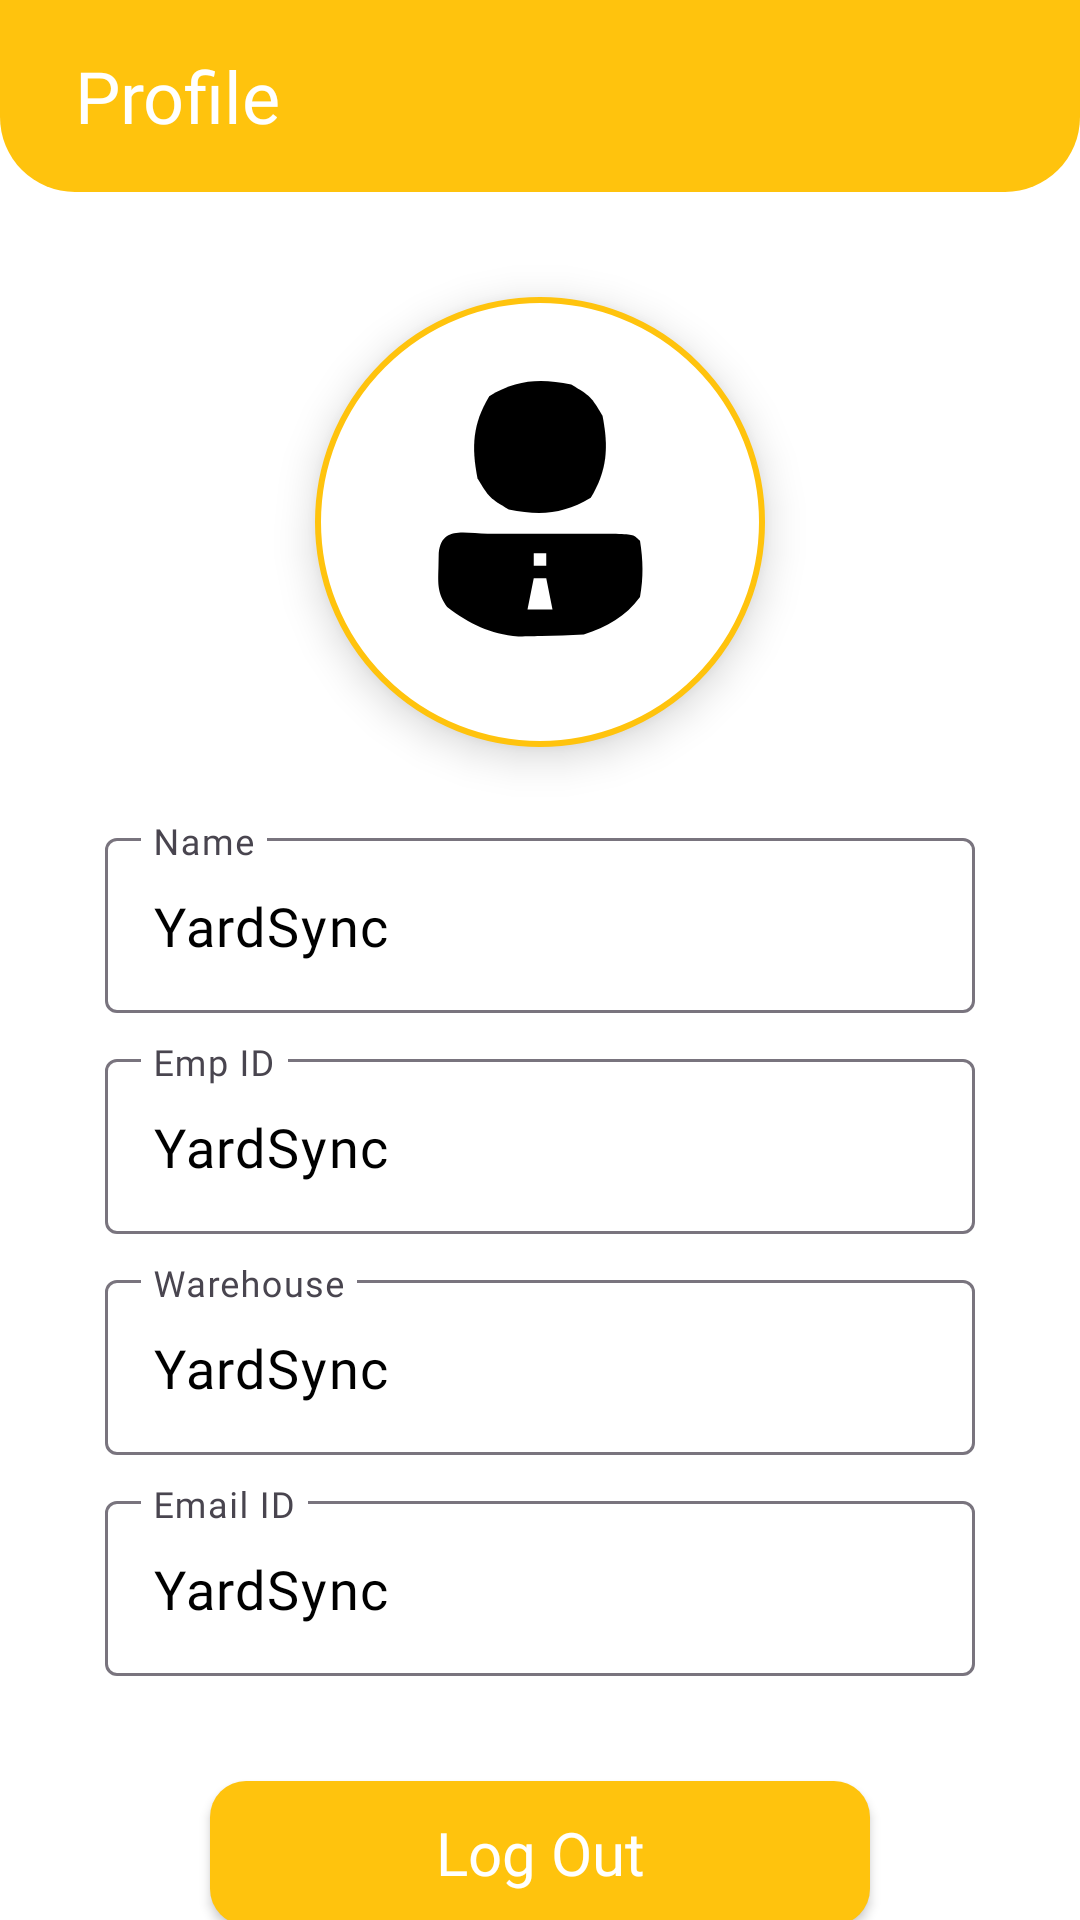

Icons on this 1080*1920 Android screen, each with its box as (x1, y1, x2, y2):
Profile Image: (438, 381, 643, 637)
